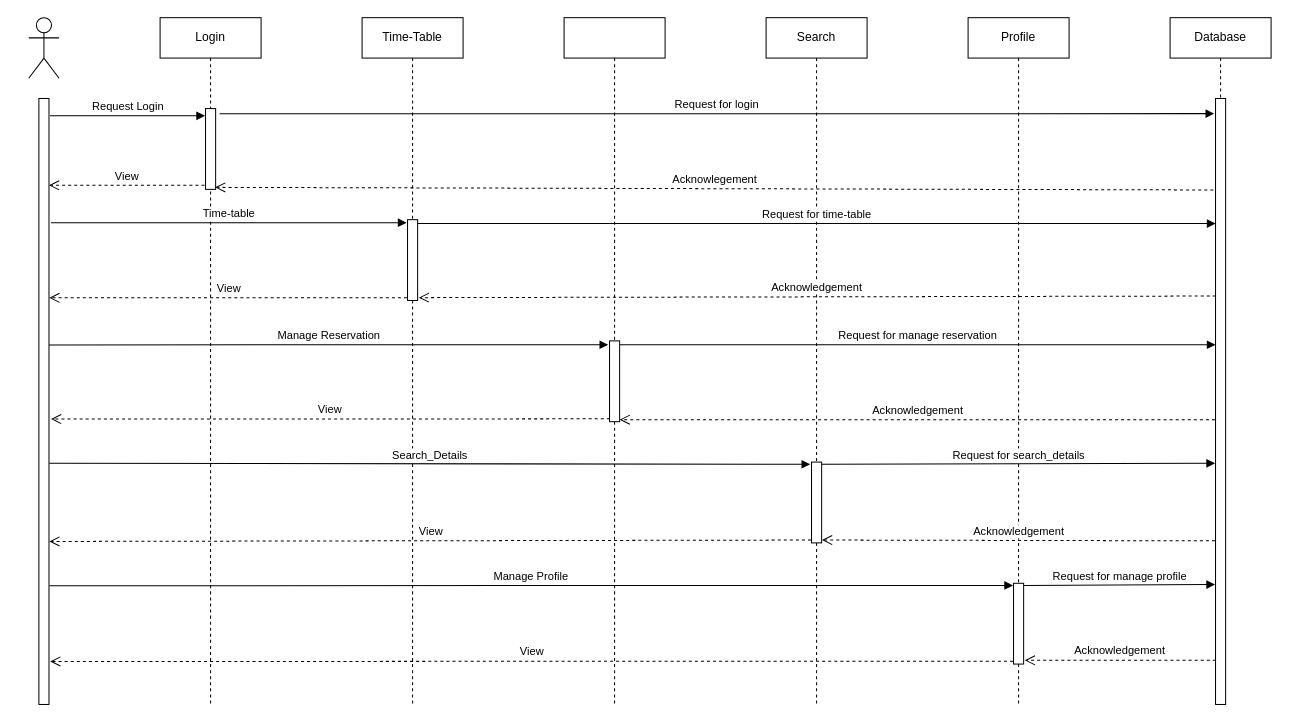
Image size: 1289x722. Some labels were removed from this diagram. Here are the shapes that lost their labels. From the top down, the box of each, then its label:
(28, 17, 59, 78): Customer
(563, 17, 665, 704): Reservation
